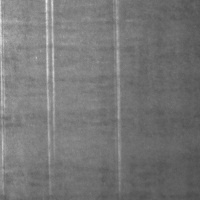scratches: (110, 1, 125, 196), (43, 1, 58, 171)
